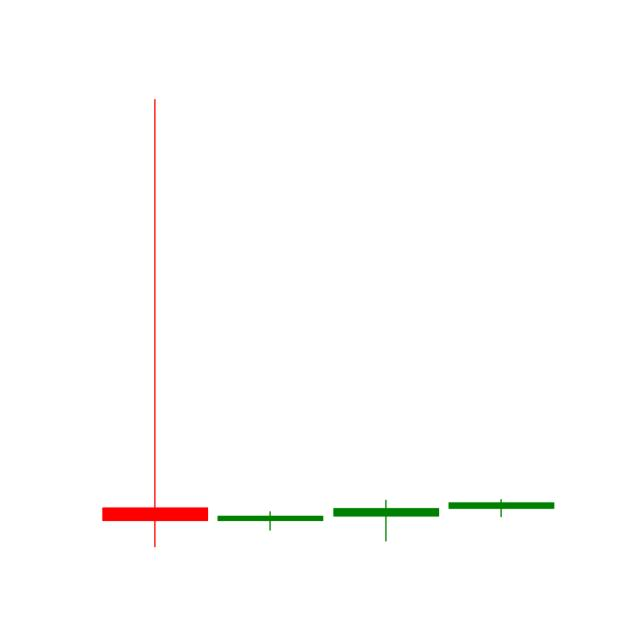Shooting Star: (91, 97, 216, 552)
Standard Doji: (217, 506, 326, 533)
